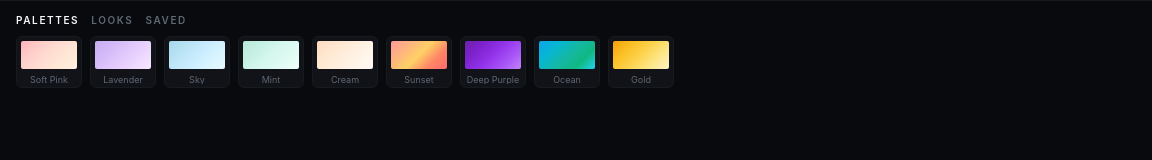
Test: BottomArea › shows an empty state before anything is saved
Click the tab "Saved" at (166, 20), box [145,13,187,28]
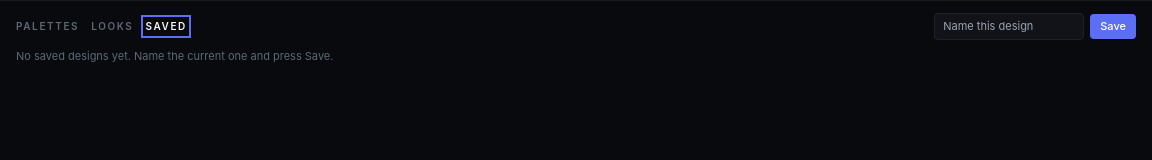
Now the text "No saved designs yet. Name the current one and press Save." is shown, box [16,48,333,64]
